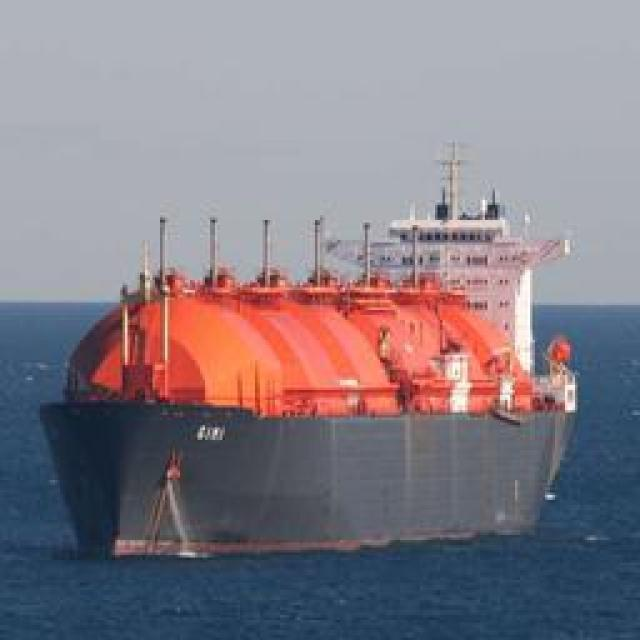ship2: (37, 142, 579, 560)
